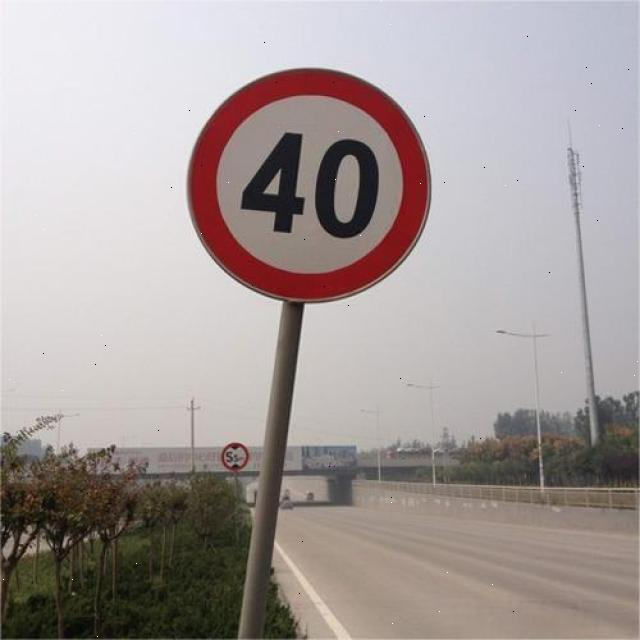speed limit 40: (184, 67, 432, 305)
